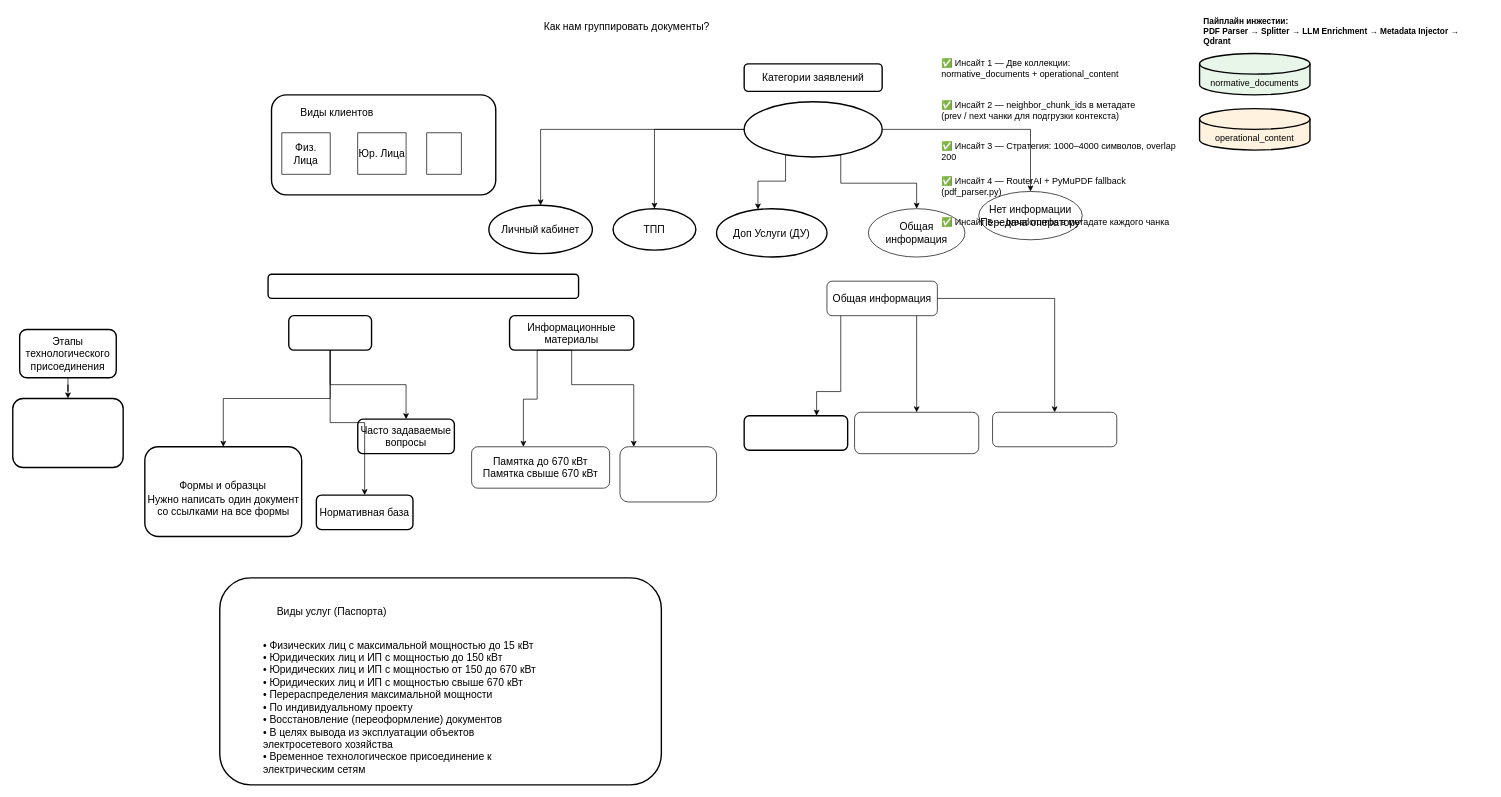
This 1501x797 diagram has some shape labels left out. The shapes that lost their labels are listed below. From the top down, each one's centre as x and y in pixels, then its label:
(813,129): Технологическое присоединение сетям
(443,153): ИП
(423,286): Категории доступной информации для ассистента
(330,333): Нормативные документы
(68,432): До 15 кВт От 15 до 150 кВт От 150 до 670 кВт Свыше 670 кВт
(795,433): Адреса пунктов ЦОК и ПОК
(916,433): Перераспределение мощности
(1054,429): Узнать статус заявки
(668,474): Паспорта услуг
